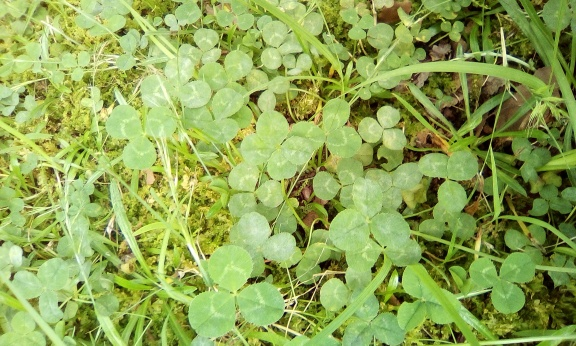4leaf: (239, 110, 312, 180)
